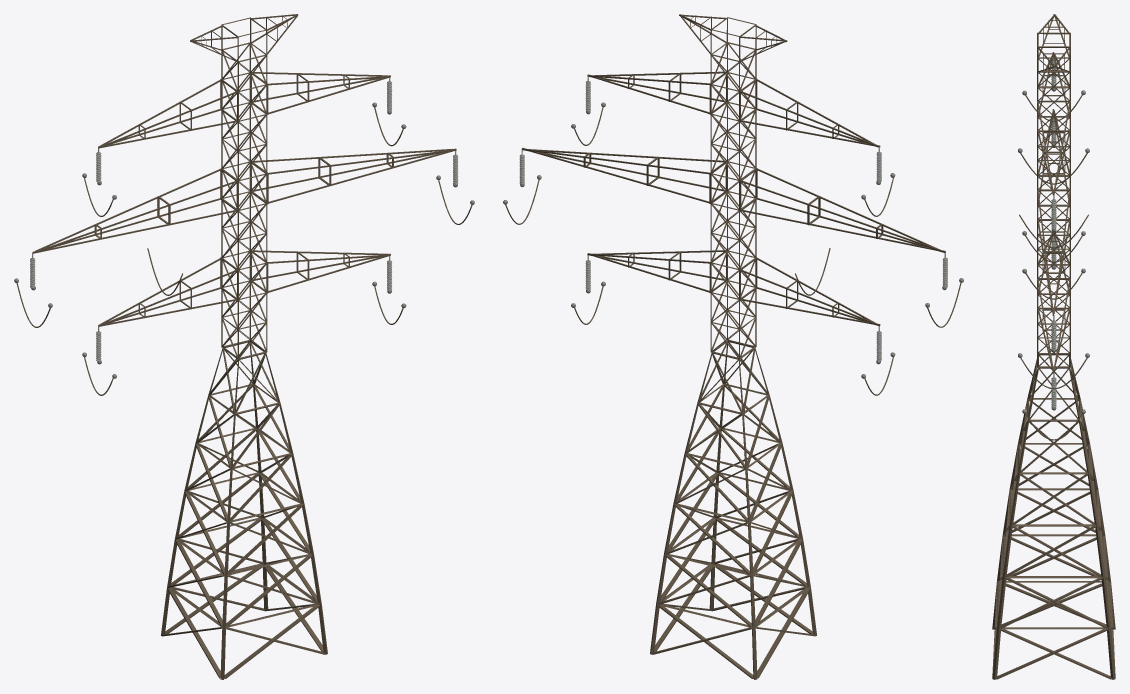
Rendered from SM_TransmissionPylon.glb.
The picture shows the model from 3 angles, left to right: view 1: azimuth 30°, elevation 25°; view 2: azimuth 150°, elevation 25°; view 3: azimuth 270°, elevation 25°; orthographic projection.
Parts seen in each view (by area): view 1: SM_TransmissionPylon; view 2: SM_TransmissionPylon; view 3: SM_TransmissionPylon.
Part boxes in pixels (bbox=[...]): SM_TransmissionPylon: bbox=[14, 14, 474, 679]; SM_TransmissionPylon: bbox=[503, 14, 963, 679]; SM_TransmissionPylon: bbox=[992, 14, 1115, 679].
Bounding box in the file's own units: 10.43 × 14.4 × 2.62.
